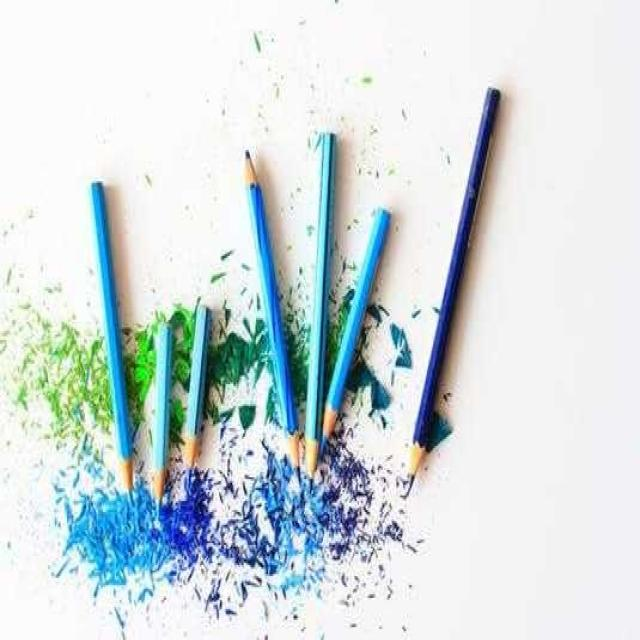pencil: (388, 70, 520, 518), (228, 131, 309, 514), (313, 183, 413, 464), (73, 155, 147, 517), (297, 114, 343, 515), (179, 286, 223, 511), (143, 294, 182, 523)
